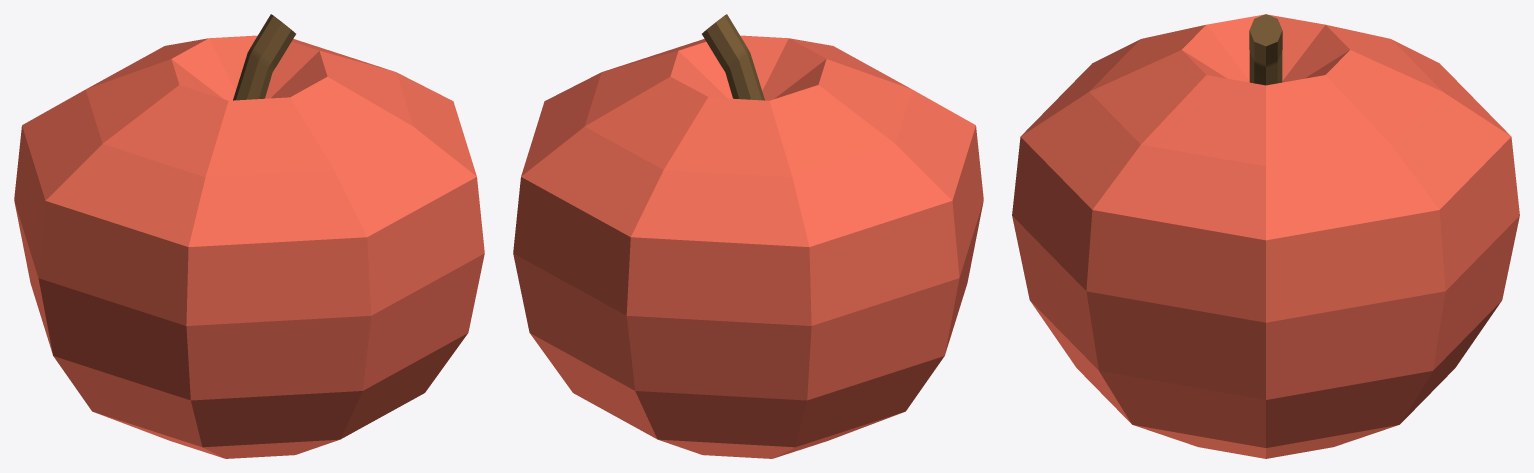
Rendered from Apple.fbx.
The picture shows the model from 3 angles, left to right: view 1: azimuth 30°, elevation 25°; view 2: azimuth 150°, elevation 25°; view 3: azimuth 270°, elevation 25°; orthographic projection. The views are drawn at different scales.
Parts seen in each view (by area): view 1: pSphere1, pCylinder1; view 2: pSphere1, pCylinder1; view 3: pSphere1, pCylinder1.
Boxes of the visible parts, bbox=[...] form: pSphere1: bbox=[14, 35, 484, 458]; pCylinder1: bbox=[233, 14, 295, 100]; pSphere1: bbox=[513, 35, 983, 458]; pCylinder1: bbox=[702, 14, 764, 100]; pSphere1: bbox=[1012, 14, 1519, 458]; pCylinder1: bbox=[1249, 14, 1282, 85].
Size of the model in its own units: 27.53 by 25.73 by 27.53.
